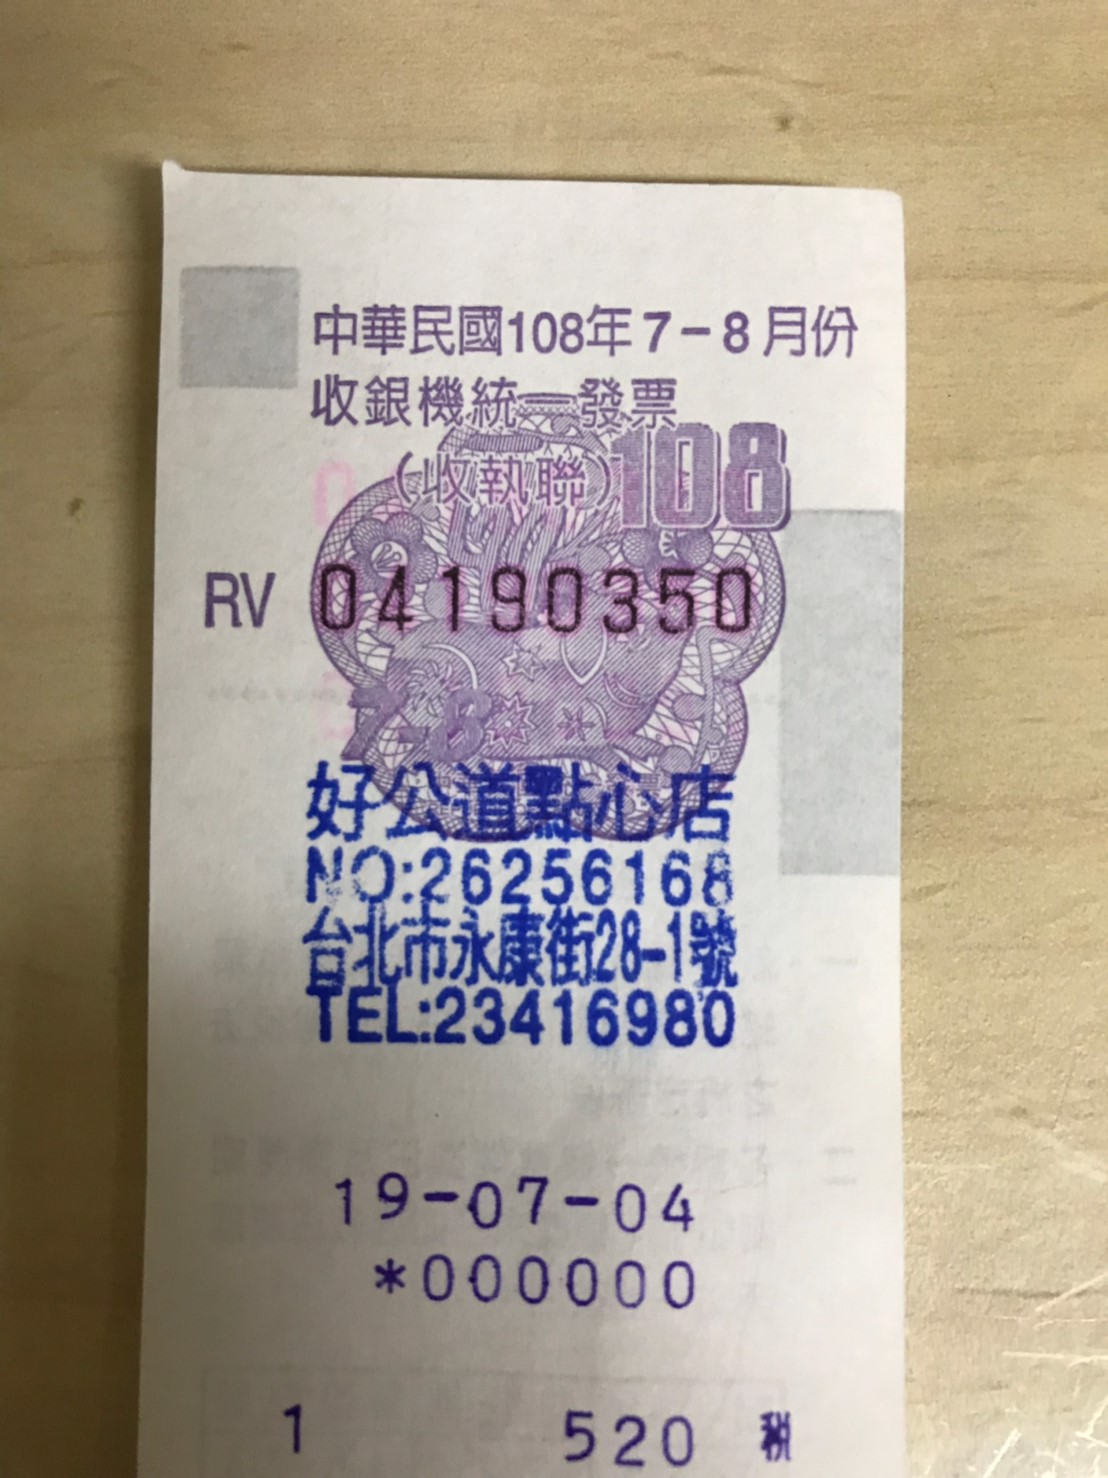Date_Old: (504, 294, 864, 358)
Number_Old: (312, 550, 759, 637)
